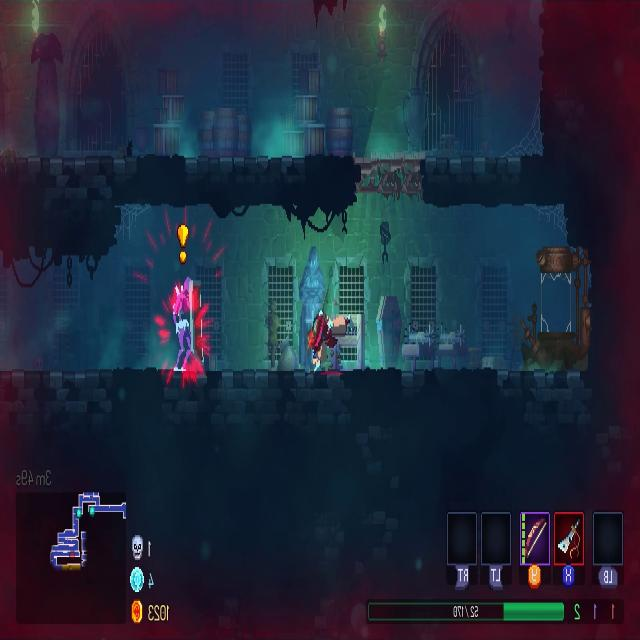agents: (308, 309, 349, 373)
enemy_purple_shield: (168, 277, 207, 374)
